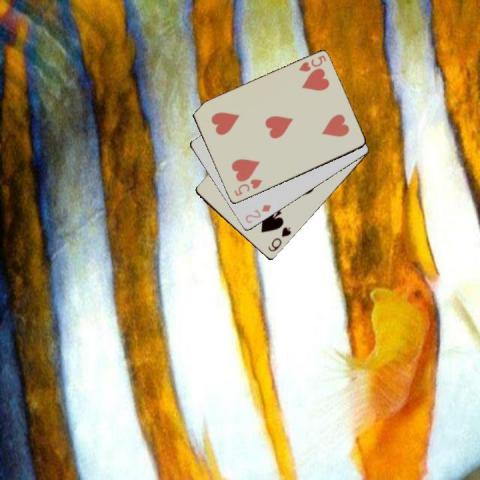2d: (242, 201, 273, 226)
5h: (231, 176, 263, 198), (296, 53, 328, 73)
6s: (264, 224, 292, 253)
